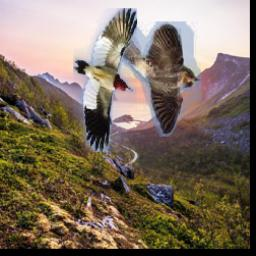Swallow: (116, 22, 201, 138)
Woodpecker: (74, 9, 138, 153)
